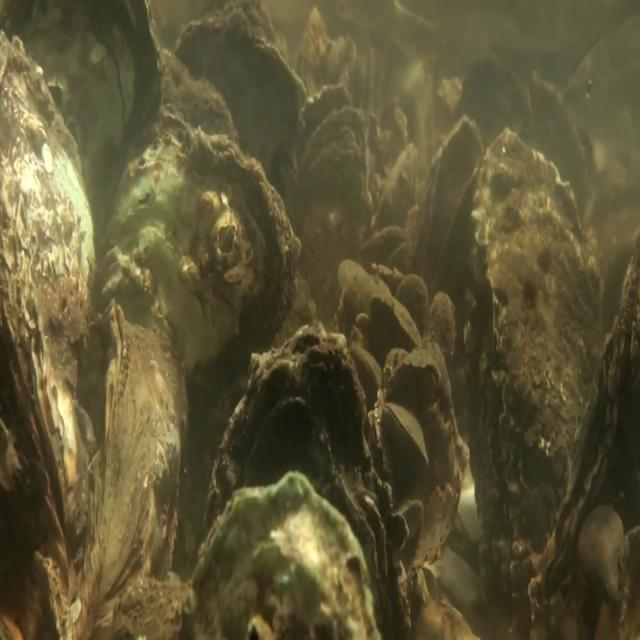Oyster-Closed: (468, 123, 606, 599), (102, 101, 303, 372), (2, 27, 104, 543), (199, 322, 390, 549), (526, 247, 634, 612), (79, 301, 190, 624), (184, 469, 385, 639), (169, 8, 303, 161), (399, 111, 486, 276), (368, 292, 426, 356), (380, 398, 428, 470), (386, 346, 446, 403)
Oyster-Indeterminate: (15, 5, 170, 215)
Oyster-Open: (288, 82, 366, 207)
